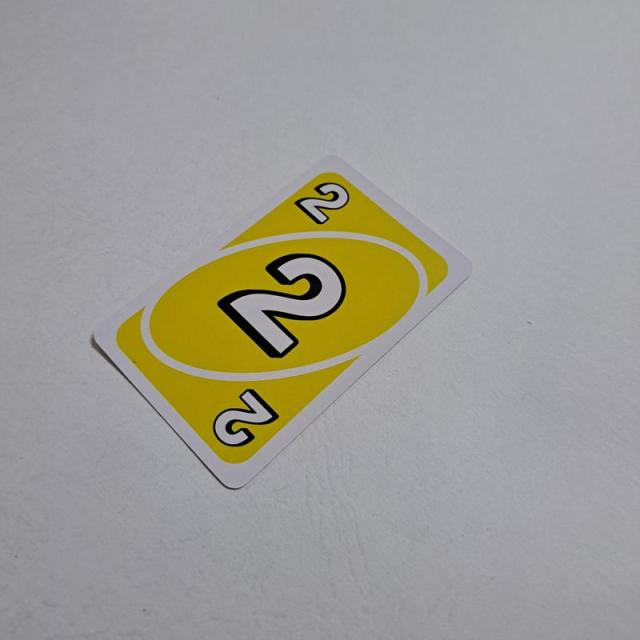Number_2: (292, 177, 353, 230)
Yellow_Card: (113, 167, 455, 471)
